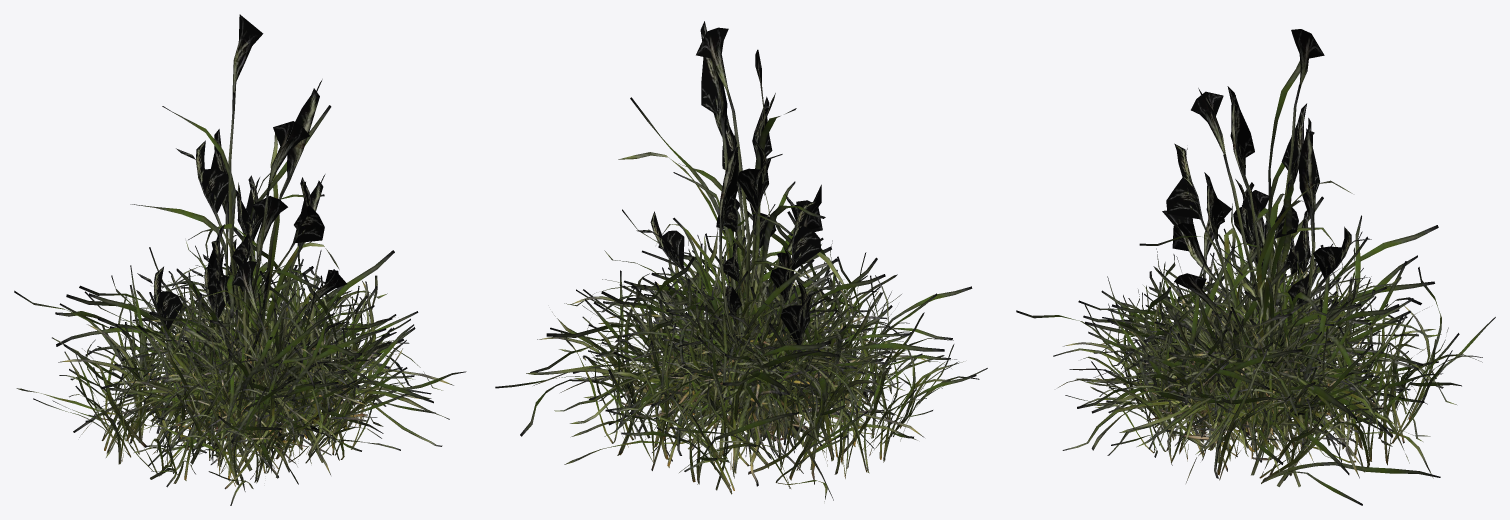
The model's file is grass_medium_01.glb.
The picture shows the model from 3 angles, left to right: view 1: azimuth 30°, elevation 25°; view 2: azimuth 150°, elevation 25°; view 3: azimuth 270°, elevation 25°; orthographic projection. The views are drawn at different scales.
Visible parts, largest first — view 1: grass_medium_01_large_a_LOD0, grass_medium_01_large_c_LOD0, grass_medium_01_large_b_LOD0, grass_medium_01_mid_a_LOD0, grass_medium_01_tall_b_LOD0, grass_medium_01_tall_a_LOD0, grass_medium_01_tall_c_LOD0, grass_medium_01_mid_c_LOD0, grass_medium_01_mid_b_LOD0, grass_medium_01_small_a_LOD0, grass_medium_01_small_b_LOD0; view 2: grass_medium_01_large_a_LOD0, grass_medium_01_large_b_LOD0, grass_medium_01_large_c_LOD0, grass_medium_01_tall_a_LOD0, grass_medium_01_mid_a_LOD0, grass_medium_01_tall_b_LOD0, grass_medium_01_tall_c_LOD0, grass_medium_01_mid_b_LOD0, grass_medium_01_mid_c_LOD0, grass_medium_01_small_a_LOD0; view 3: grass_medium_01_large_a_LOD0, grass_medium_01_large_c_LOD0, grass_medium_01_large_b_LOD0, grass_medium_01_mid_a_LOD0, grass_medium_01_tall_b_LOD0, grass_medium_01_tall_a_LOD0, grass_medium_01_tall_c_LOD0, grass_medium_01_mid_c_LOD0, grass_medium_01_mid_b_LOD0, grass_medium_01_small_b_LOD0, grass_medium_01_small_a_LOD0.
Part boxes in pixels (x1,y1,x2,y2): grass_medium_01_large_a_LOD0: (14,228,415,505); grass_medium_01_large_c_LOD0: (89,255,466,478); grass_medium_01_large_b_LOD0: (56,235,453,474); grass_medium_01_mid_a_LOD0: (73,174,431,468); grass_medium_01_tall_b_LOD0: (171,79,339,425); grass_medium_01_tall_a_LOD0: (130,14,331,343); grass_medium_01_tall_c_LOD0: (137,129,345,432); grass_medium_01_mid_c_LOD0: (147,268,390,472); grass_medium_01_mid_b_LOD0: (89,216,335,484); grass_medium_01_small_a_LOD0: (139,273,357,491); grass_medium_01_small_b_LOD0: (140,307,377,472); grass_medium_01_large_a_LOD0: (495,209,987,501); grass_medium_01_large_b_LOD0: (526,204,929,461); grass_medium_01_large_c_LOD0: (530,211,952,473); grass_medium_01_tall_a_LOD0: (628,27,825,388); grass_medium_01_mid_a_LOD0: (573,115,880,500); grass_medium_01_tall_b_LOD0: (618,21,854,343); grass_medium_01_tall_c_LOD0: (668,134,837,440); grass_medium_01_mid_b_LOD0: (610,188,892,486); grass_medium_01_mid_c_LOD0: (589,215,888,435); grass_medium_01_small_a_LOD0: (619,231,900,457); grass_medium_01_large_a_LOD0: (1016,196,1495,505); grass_medium_01_large_c_LOD0: (1069,228,1442,474); grass_medium_01_large_b_LOD0: (1058,214,1456,482); grass_medium_01_mid_a_LOD0: (1094,172,1418,449); grass_medium_01_tall_b_LOD0: (1158,86,1352,441); grass_medium_01_tall_a_LOD0: (1139,29,1371,406); grass_medium_01_tall_c_LOD0: (1162,118,1348,413); grass_medium_01_mid_c_LOD0: (1107,203,1404,462); grass_medium_01_mid_b_LOD0: (1108,216,1402,480); grass_medium_01_small_b_LOD0: (1118,277,1393,460); grass_medium_01_small_a_LOD0: (1139,257,1374,442).
Size of the model in its own units: 0.317 by 0.3226 by 0.3266.
1 material, 1 textured.
